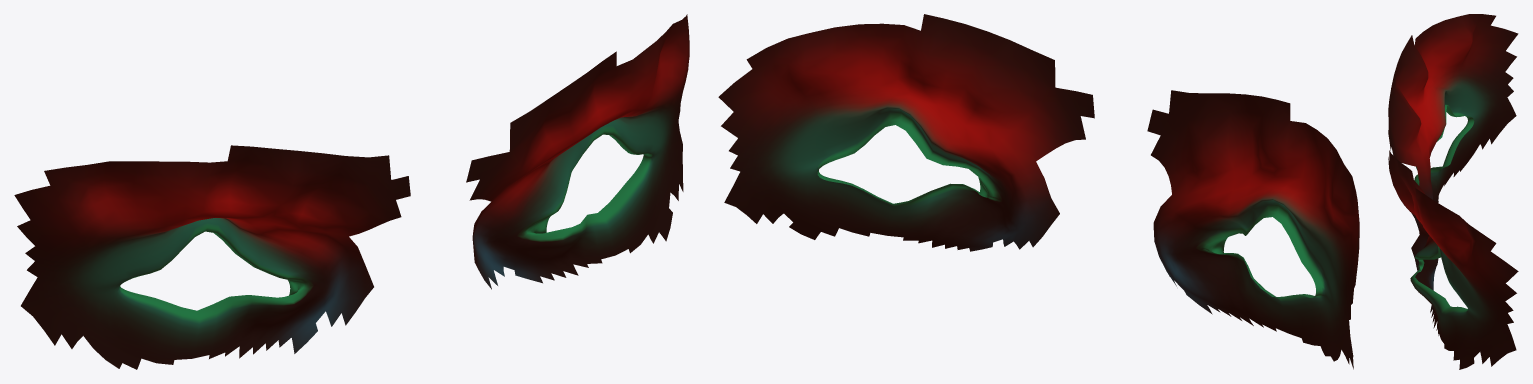
Rendered from yeux04.dae.
The picture shows the model from 3 angles, left to right: view 1: azimuth 30°, elevation 25°; view 2: azimuth 150°, elevation 25°; view 3: azimuth 270°, elevation 25°; orthographic projection. The views are drawn at different scales.
Visible parts, largest first — view 1: Object001; view 2: Object001; view 3: Object001.
Boxes of the visible parts, x1,y1,x2,y2 form: Object001: [14, 14, 689, 369]; Object001: [718, 14, 1359, 369]; Object001: [1388, 14, 1518, 369].
Size of the model in its own units: 11.8 by 2.73 by 3.93.
